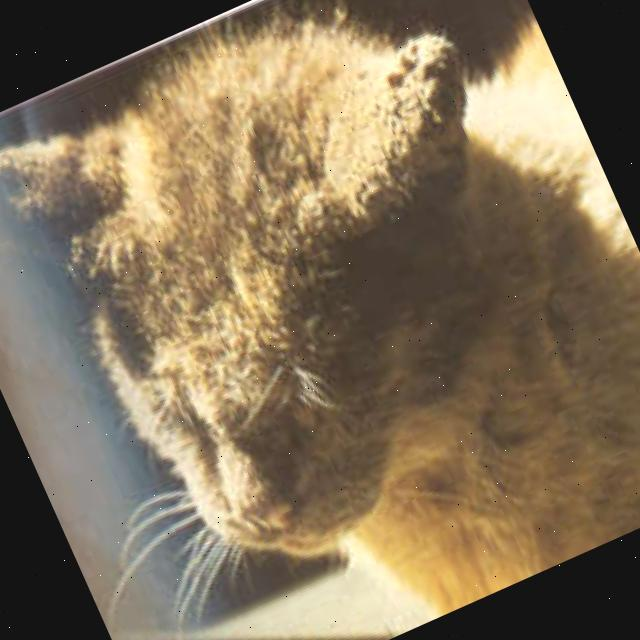cat-scabies: (252, 30, 472, 196), (186, 208, 316, 352), (97, 245, 202, 375), (0, 121, 88, 254)
